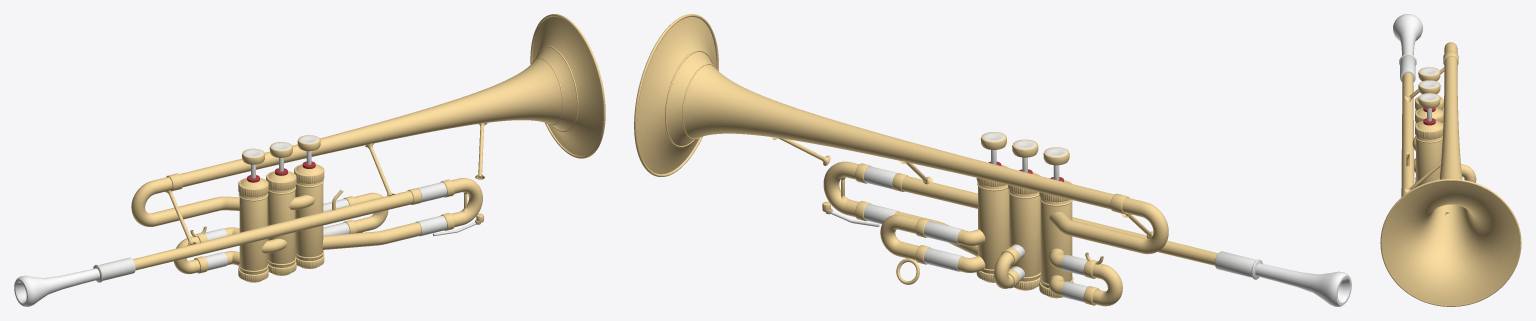
File: trumpet.glb
The picture shows the model from 3 angles, left to right: view 1: azimuth 30°, elevation 25°; view 2: azimuth 150°, elevation 25°; view 3: azimuth 270°, elevation 25°; orthographic projection. The views are drawn at different scales.
Visible parts, largest first — view 1: Body, valve3, valve1, valve2; view 2: Body, valve1, valve2, valve3; view 3: Body, valve3, valve1, valve2.
Part boxes in pixels (<box>): Body: <box>14,14,605,306</box>; valve3: <box>297,135,320,164</box>; valve1: <box>242,148,265,178</box>; valve2: <box>269,142,292,171</box>; Body: <box>634,14,1351,306</box>; valve1: <box>1043,147,1069,180</box>; valve2: <box>1012,139,1038,172</box>; valve3: <box>980,132,1006,164</box>; Body: <box>1380,14,1521,306</box>; valve3: <box>1418,93,1440,121</box>; valve1: <box>1418,67,1440,81</box>; valve2: <box>1418,80,1440,93</box>.
Size of the model in its own units: 0.5544 by 0.1653 by 0.1245.
